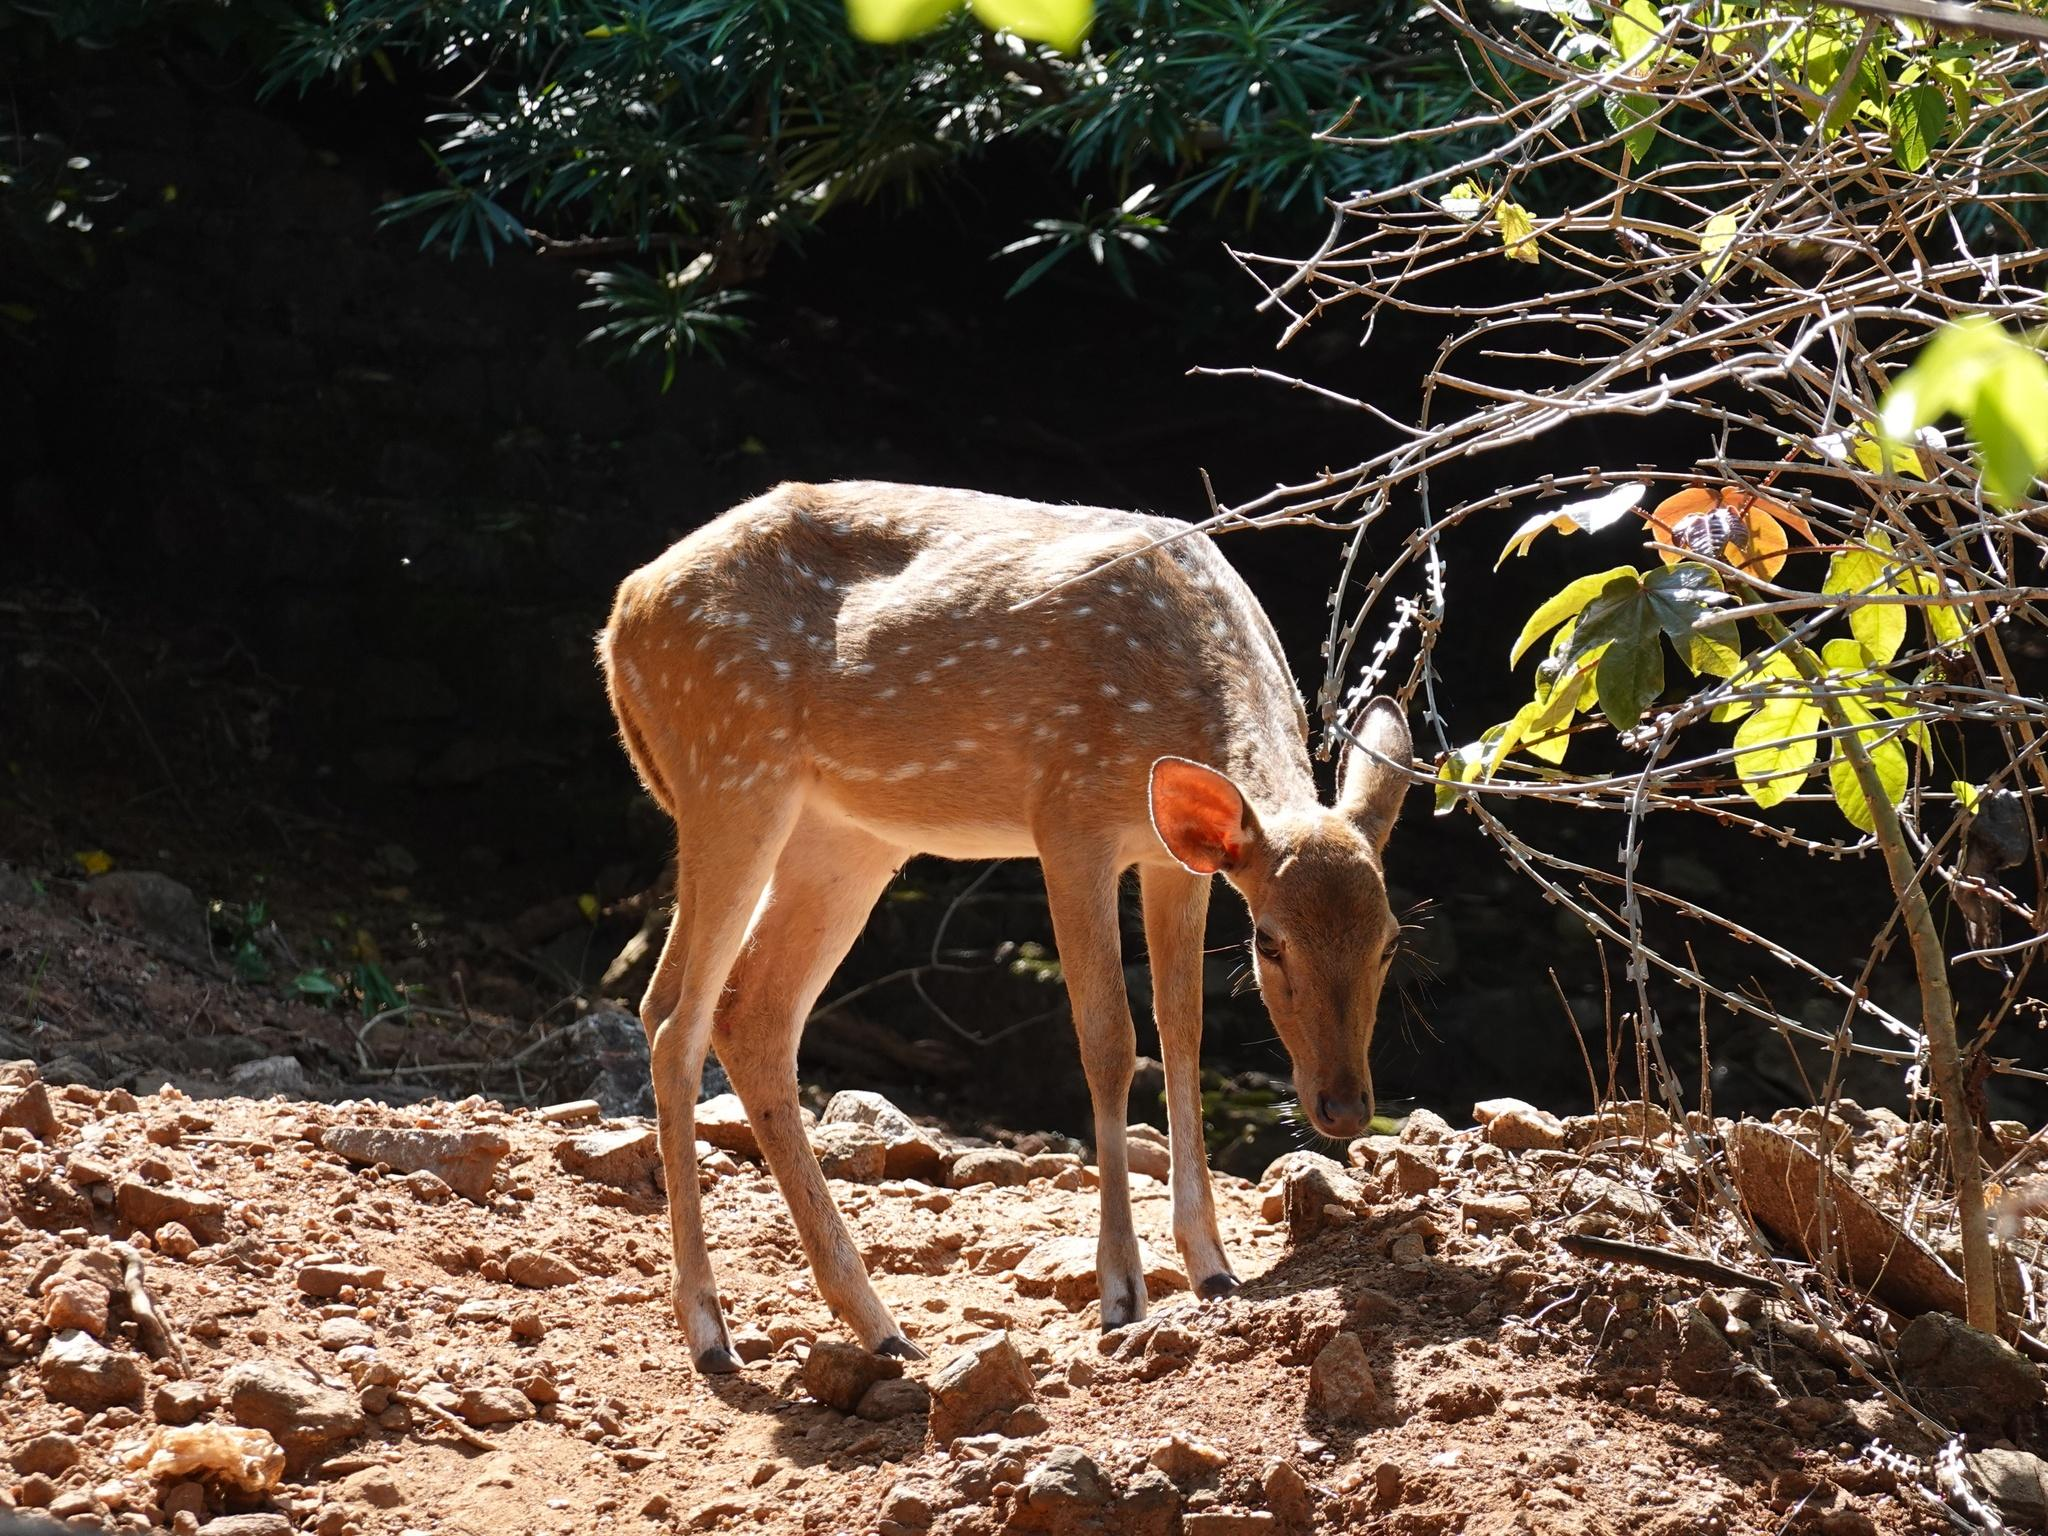Deer: (598, 482, 1413, 1371)
